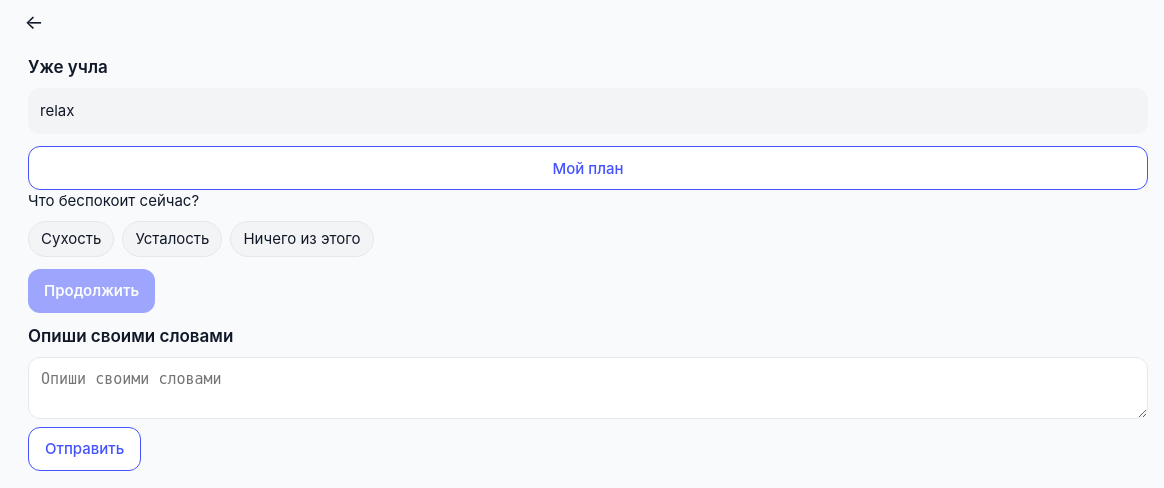
Test: multi › «Ничего из этого» — обычная опция, повторный тап снимает отметку
Click the checkbox labelled "Ничего из этого" at point(302, 239), box [230, 221, 374, 257]
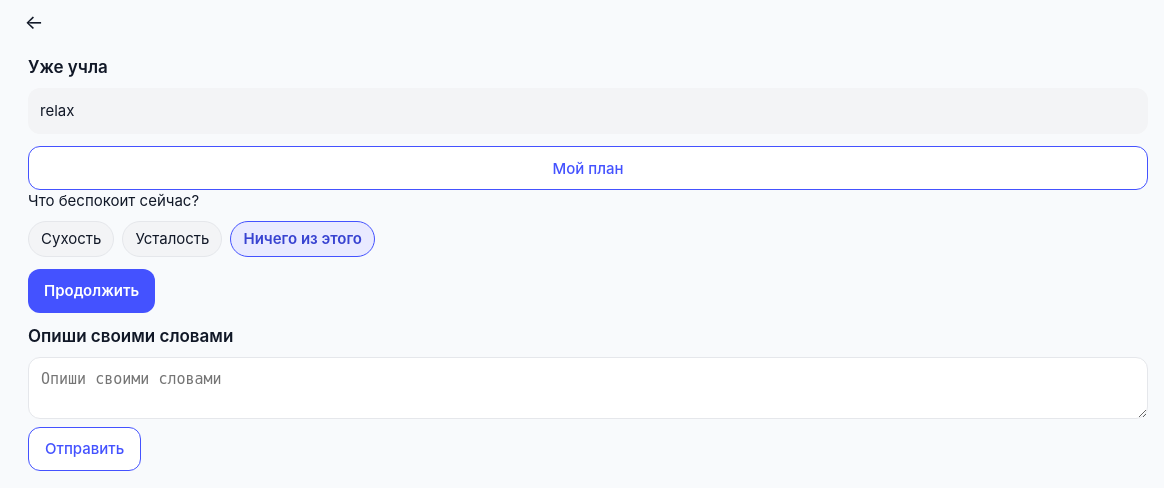
Result: the checkbox labelled "Ничего из этого" is checked
Click the checkbox labelled "Ничего из этого" at point(303, 239), box [230, 221, 375, 257]
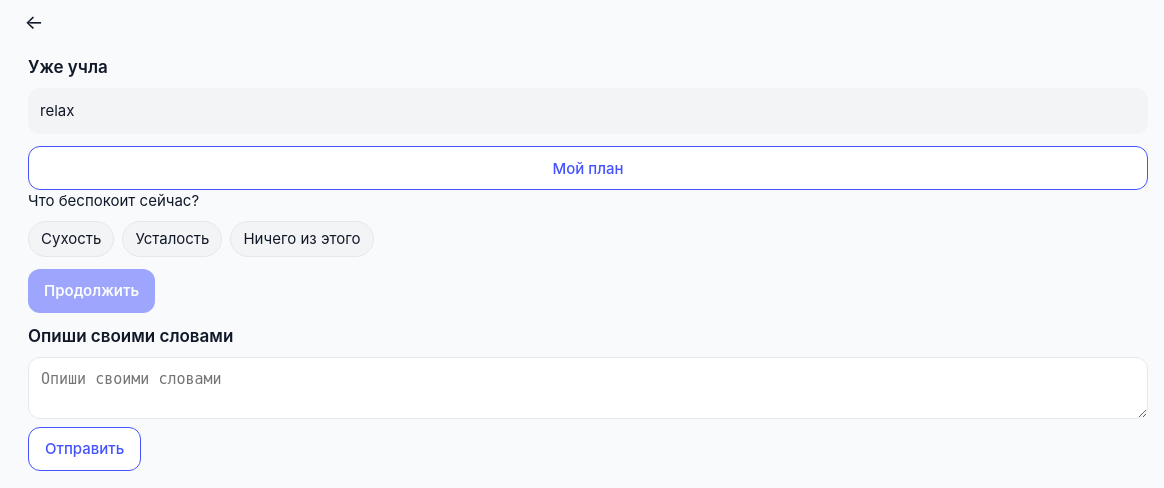
Result: the button "Продолжить" is disabled at [28, 269, 155, 313]
